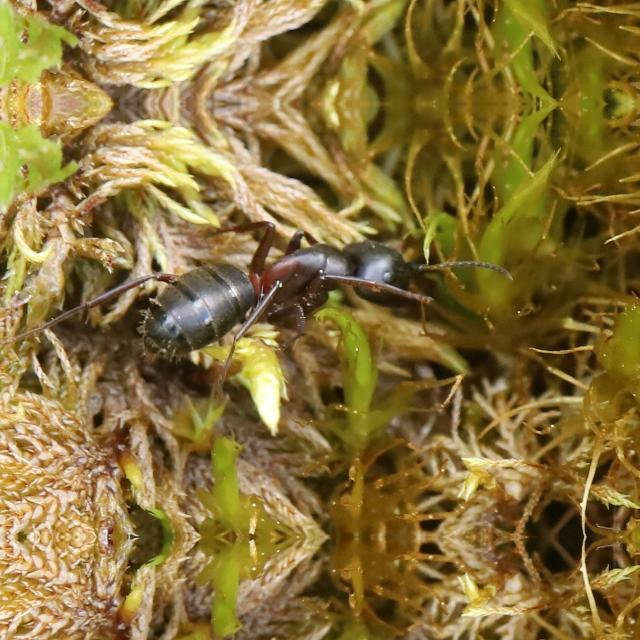Camponotus: (95, 200, 465, 372)
